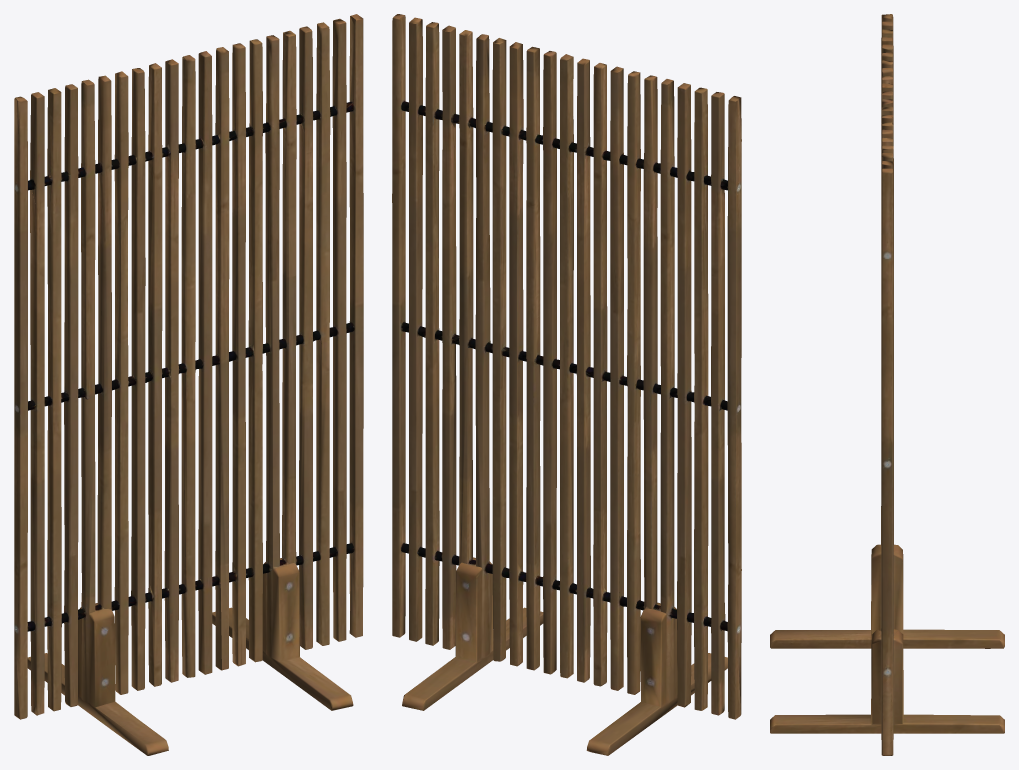
File: nammaro-pantalla-para-privacidad-tinte-marron-claro-interiorexterior.glb
3 renders of one model, left to right at view 1: azimuth 30°, elevation 25°; view 2: azimuth 150°, elevation 25°; view 3: azimuth 270°, elevation 25°, orthographic. The views are drawn at different scales.
Visible parts, largest first — view 1: ProcessedMeshNode; view 2: ProcessedMeshNode; view 3: ProcessedMeshNode.
Boxes of the visible parts, left/top/right/bottom form: ProcessedMeshNode: left=14, top=14, right=363, bottom=755; ProcessedMeshNode: left=392, top=14, right=741, bottom=755; ProcessedMeshNode: left=770, top=14, right=1004, bottom=755.
Size of the model in its own units: 0.801 by 1.4 by 0.5004.
1 material, 1 textured.
